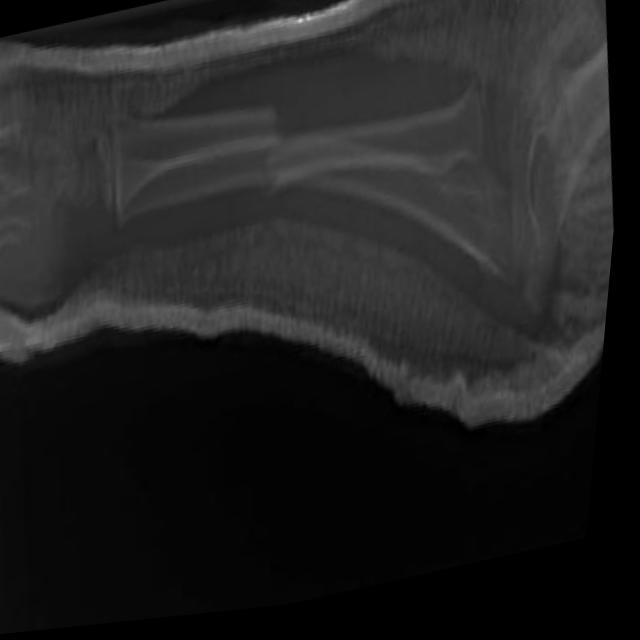fracture: (246, 76, 306, 205)
